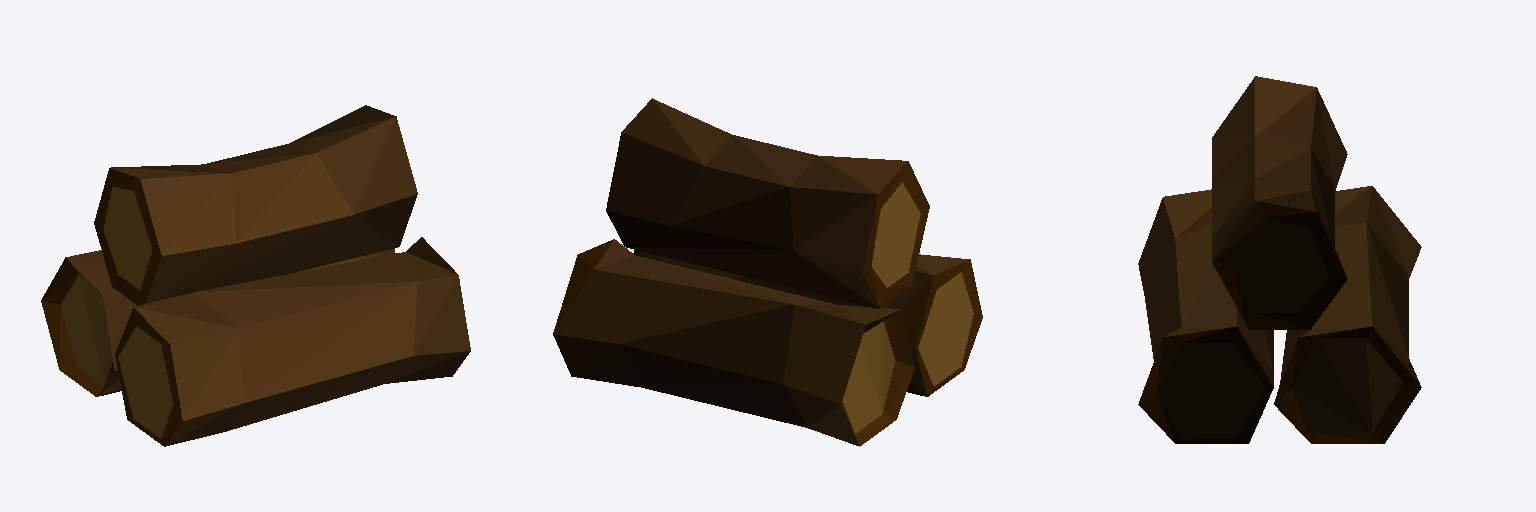
File: logs.obj
The picture shows the model from 3 angles: view 1: azimuth 30°, elevation 25°; view 2: azimuth 150°, elevation 25°; view 3: azimuth 270°, elevation 25°; orthographic projection.
Parts seen in each view (by area): view 1: Item_Logs_2023-12-11_14-58-55; view 2: Item_Logs_2023-12-11_14-58-55; view 3: Item_Logs_2023-12-11_14-58-55.
Boxes of the visible parts, x1,y1,x2,y2 form: Item_Logs_2023-12-11_14-58-55: [41, 105, 470, 446]; Item_Logs_2023-12-11_14-58-55: [553, 98, 982, 446]; Item_Logs_2023-12-11_14-58-55: [1138, 76, 1421, 443].
Bounding box in the file's own units: 0.378 × 0.294 × 0.322.